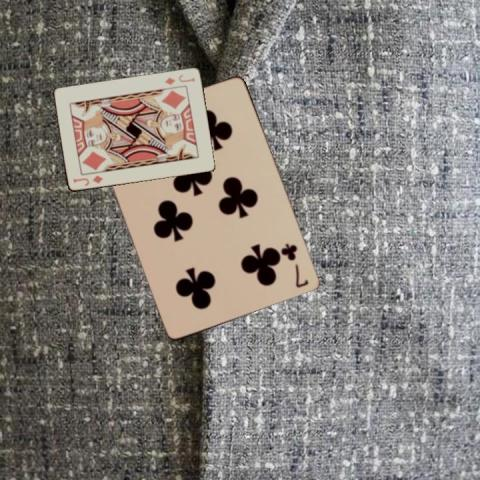7c: (280, 241, 310, 289)
Jd: (162, 72, 196, 87), (70, 173, 104, 187)
